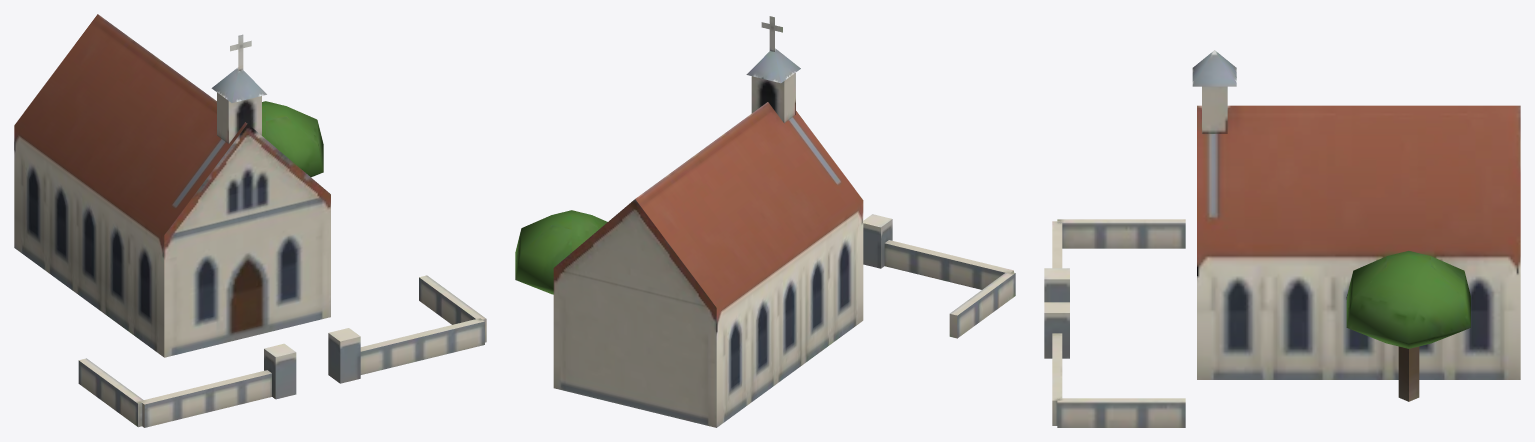
The model's file is kit_church.glb.
3 views of the same model, side by side, from view 1: azimuth 30°, elevation 25°; view 2: azimuth 150°, elevation 25°; view 3: azimuth 270°, elevation 25° (orthographic). The views are drawn at different scales.
Parts seen in each view (by area): view 1: kit_church_body; view 2: kit_church_body; view 3: kit_church_body.
Boxes of the visible parts, x1,y1,x2,y2 form: kit_church_body: (14, 14, 486, 427); kit_church_body: (515, 16, 1015, 427); kit_church_body: (1044, 50, 1520, 427).
Size of the model in its own units: 38.9 by 31.72 by 42.65.
1 material, 1 textured.
